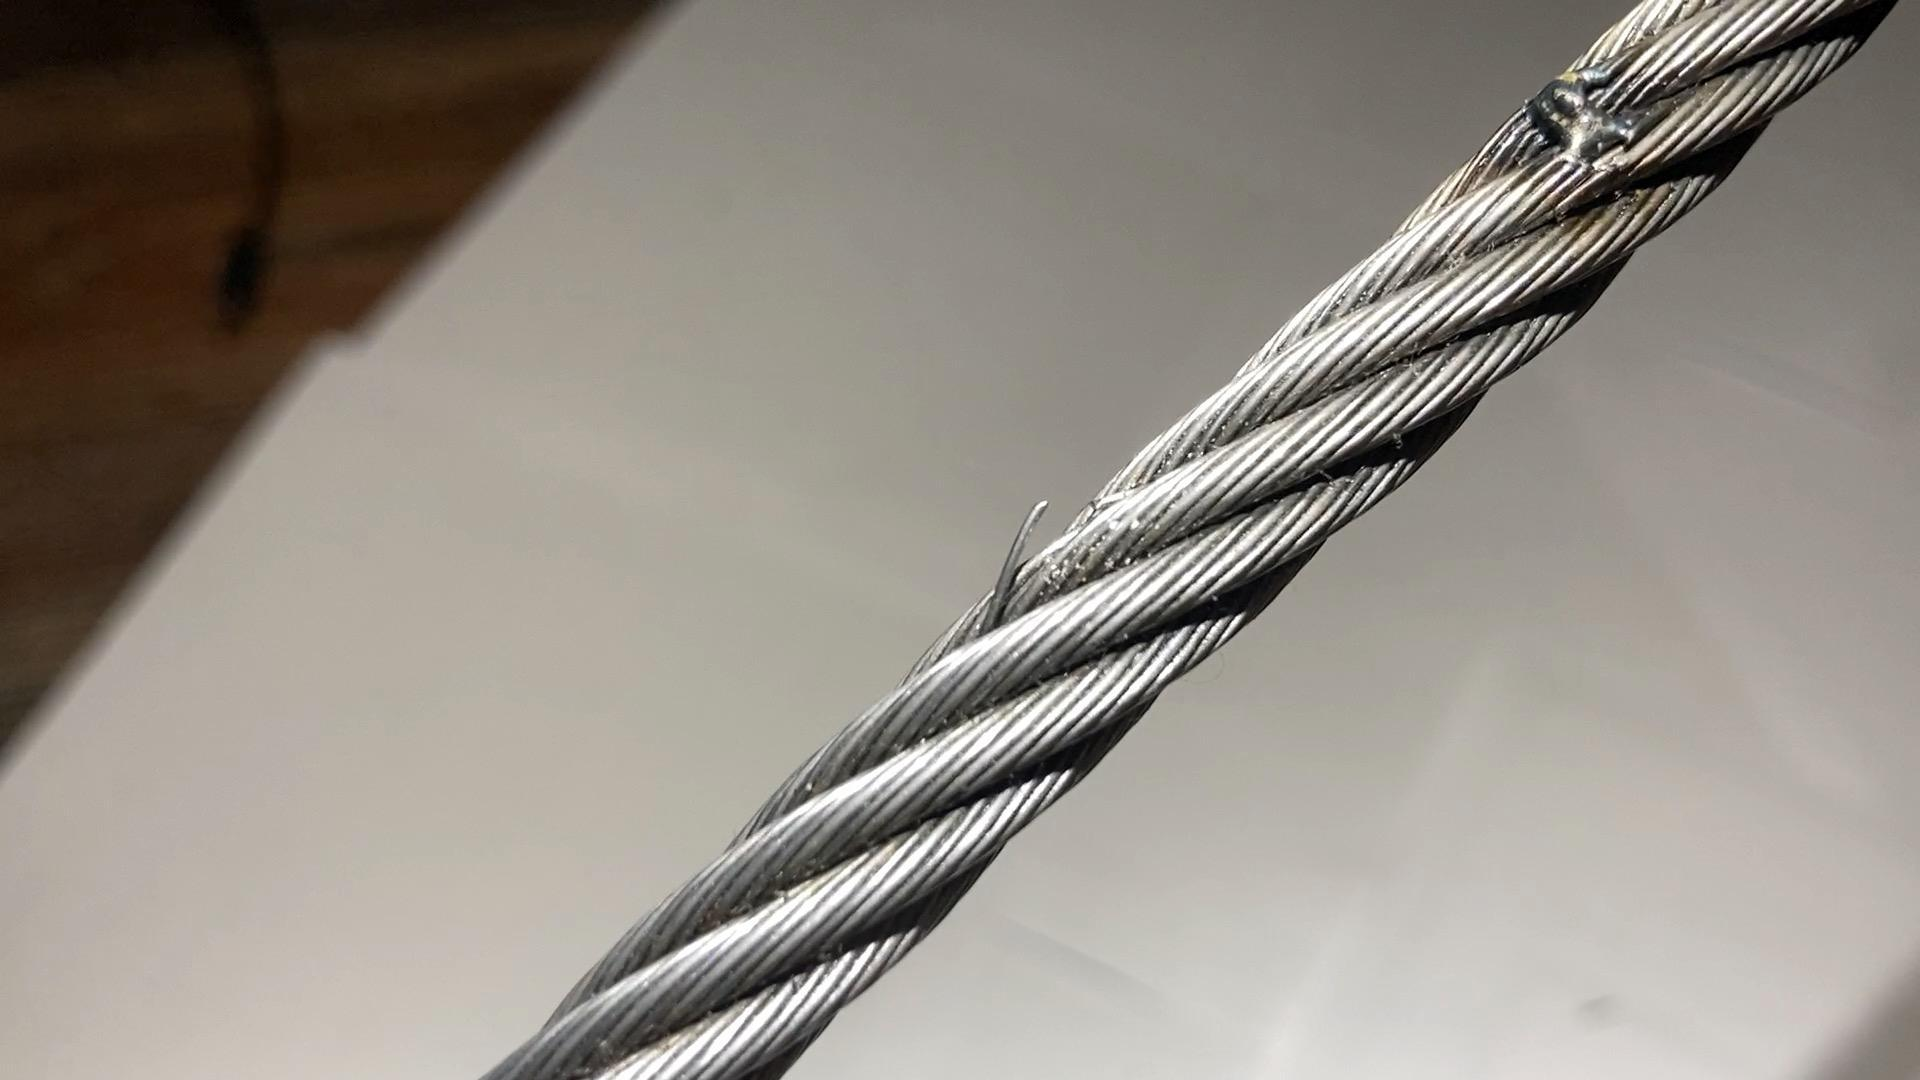break: (968, 497, 1071, 607)
thunderbolt: (1515, 70, 1640, 166)
